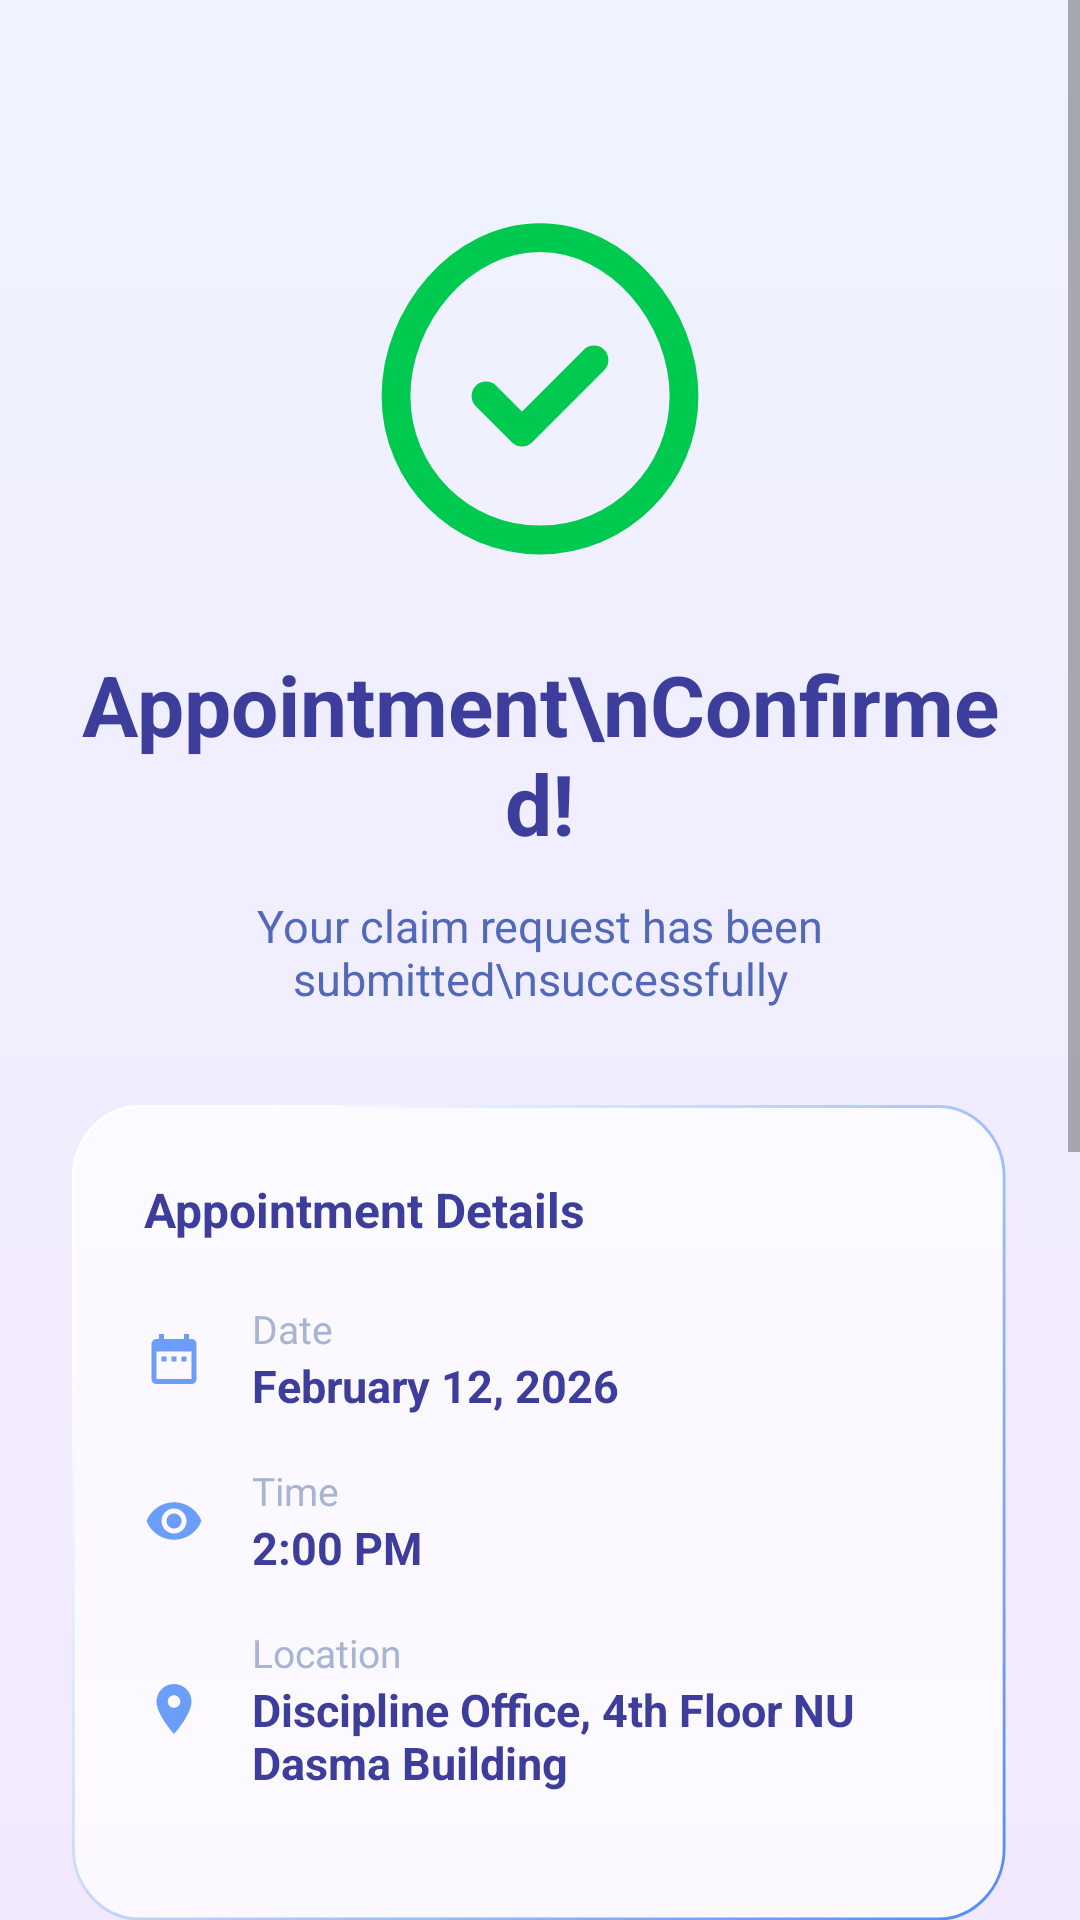

Named icons in this screenshot (1080px x 1920px) and their centers, point (x, y):
calendar: point (174, 1359)
check: point (540, 389)
visibility: point (174, 1521)
